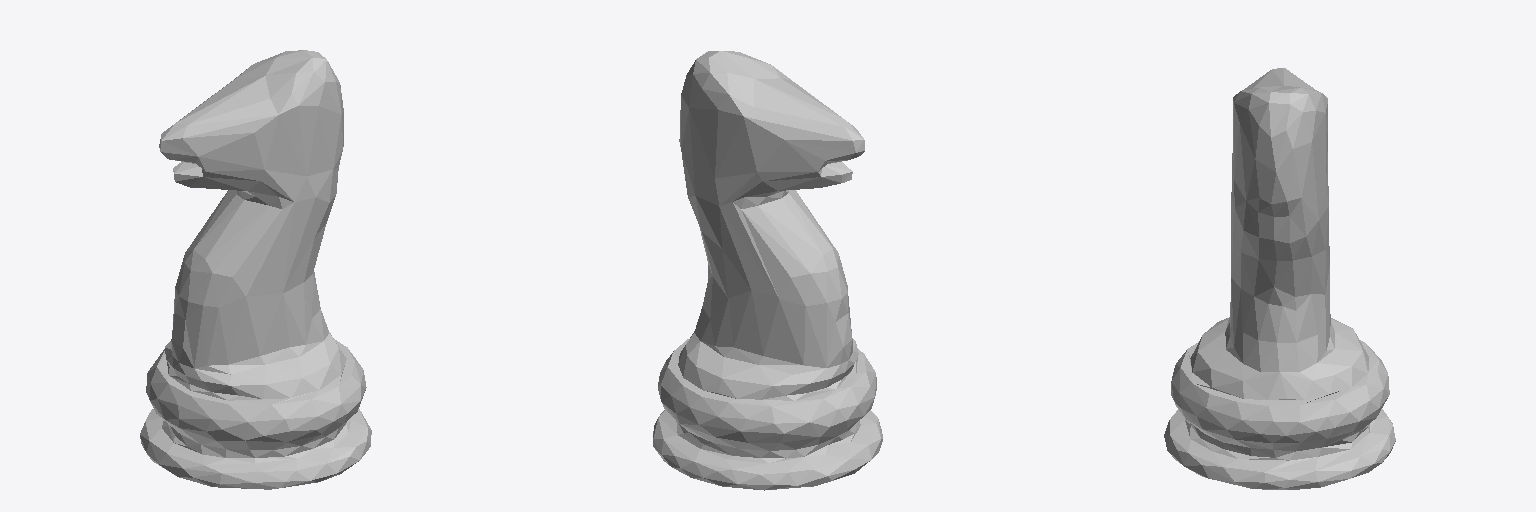
The model's file is KnightNewSimplificat.obj.
The picture shows the model from 3 angles: view 1: azimuth 30°, elevation 25°; view 2: azimuth 150°, elevation 25°; view 3: azimuth 270°, elevation 25°; orthographic projection.
Visible parts, largest first — view 1: mesh01.008; view 2: mesh01.008; view 3: mesh01.008.
Part boxes in pixels (bbox=[...]): mesh01.008: bbox=[140, 50, 371, 489]; mesh01.008: bbox=[653, 51, 882, 490]; mesh01.008: bbox=[1164, 68, 1395, 489].
Bounding box in the file's own units: 1.42 × 2.56 × 1.42.